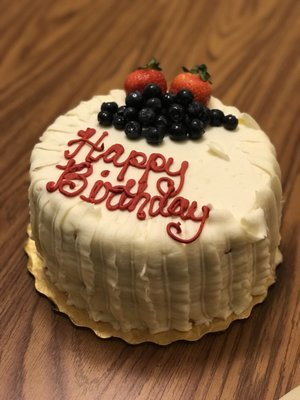curry: (1, 0, 300, 370)
sushi: (23, 51, 287, 347)
